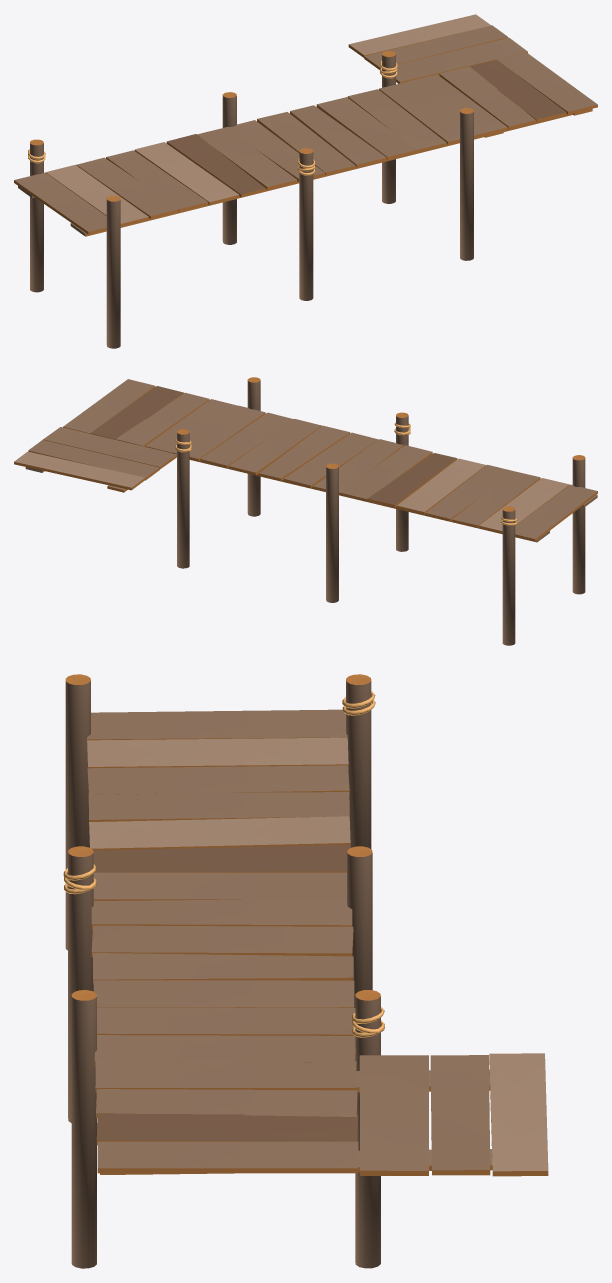
File: Asset_PontoonLittle.glb
3 renders of one model, top to bottom at view 1: azimuth 30°, elevation 25°; view 2: azimuth 150°, elevation 25°; view 3: azimuth 270°, elevation 25°, orthographic. The views are drawn at different scales.
Parts seen in each view (by area): view 1: Mesh.001; view 2: Mesh.001; view 3: Mesh.001.
Boxes of the visible parts, box(x1,y1,x2,y2) form: Mesh.001: box(14, 14, 597, 348); Mesh.001: box(14, 377, 597, 645); Mesh.001: box(63, 674, 548, 1268).
Size of what is drawn, in the model's own units: 23.14 by 6.27 by 10.29.
1 material, 1 textured.
